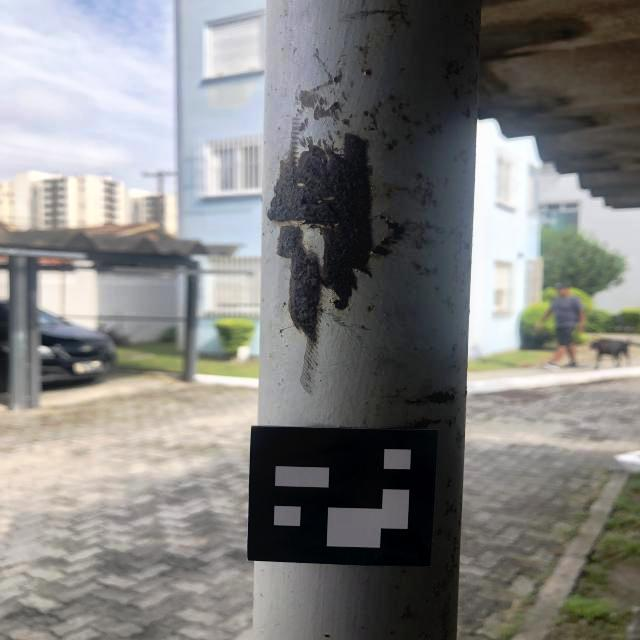Corrosion: (266, 118, 406, 349), (296, 48, 352, 129), (384, 173, 438, 208), (413, 221, 447, 249), (362, 101, 382, 131), (355, 36, 371, 65), (426, 391, 457, 404), (406, 418, 442, 429), (441, 603, 451, 640), (432, 576, 447, 598), (446, 61, 462, 80), (444, 562, 454, 581), (401, 606, 413, 619), (360, 66, 373, 76), (387, 139, 398, 150), (406, 399, 426, 405), (445, 504, 455, 516), (427, 125, 442, 133), (459, 150, 468, 163), (451, 87, 459, 100), (463, 108, 472, 119), (340, 91, 349, 101), (401, 114, 411, 123), (418, 632, 429, 640), (387, 13, 397, 21), (420, 269, 432, 275), (463, 241, 471, 250), (405, 130, 412, 139), (464, 12, 469, 24), (444, 177, 450, 187), (475, 32, 480, 42), (367, 305, 374, 312), (414, 262, 422, 268), (398, 3, 407, 8), (476, 44, 479, 59), (447, 479, 452, 487), (437, 527, 442, 535), (470, 20, 474, 30), (450, 554, 455, 561), (453, 155, 458, 162), (448, 419, 452, 427), (401, 14, 406, 20), (392, 107, 398, 112), (458, 231, 463, 237), (389, 94, 393, 100), (389, 630, 395, 634), (383, 131, 386, 138), (414, 121, 421, 124), (279, 328, 283, 333), (454, 543, 456, 553), (459, 516, 461, 526), (391, 23, 396, 27), (425, 113, 430, 117), (445, 501, 449, 505), (454, 508, 457, 513), (454, 536, 457, 541), (402, 570, 406, 573), (449, 595, 451, 601), (407, 103, 410, 107), (283, 302, 286, 305), (399, 103, 403, 105), (448, 533, 450, 535)
